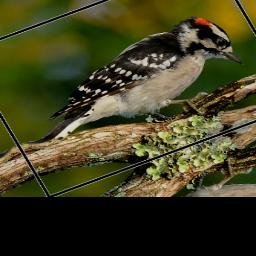Woodpecker: (0, 6, 256, 169)
